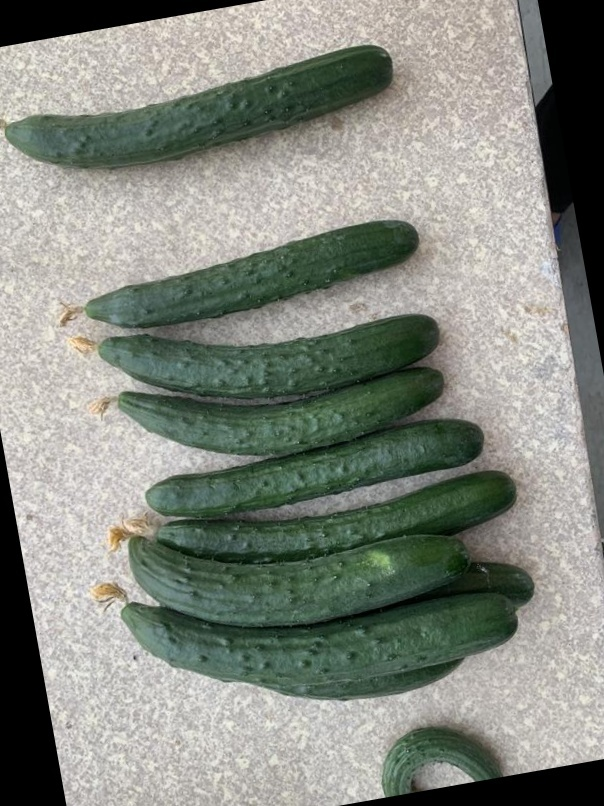mature: (3, 31, 389, 170), (81, 212, 421, 327), (138, 413, 492, 515), (112, 589, 524, 674), (144, 465, 515, 557), (122, 535, 481, 625), (113, 364, 453, 452), (94, 310, 442, 393)
